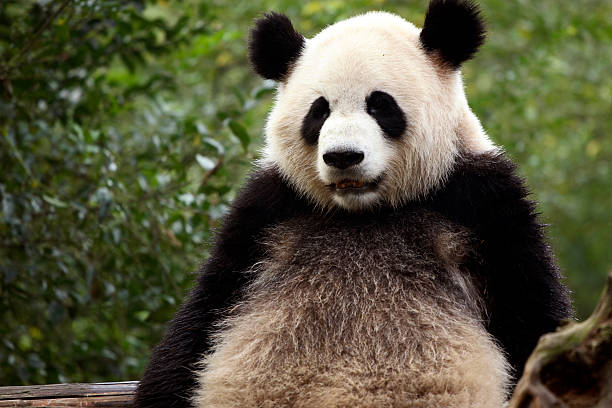panda: (233, 3, 505, 232)
